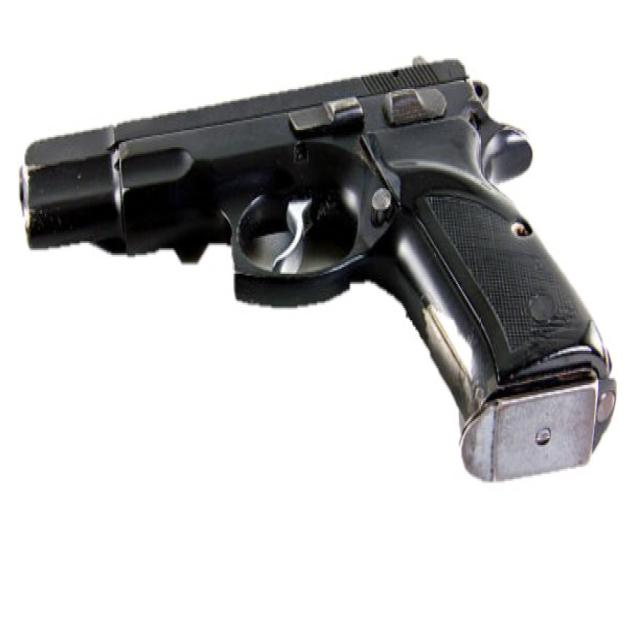pistol: (21, 40, 627, 490)
